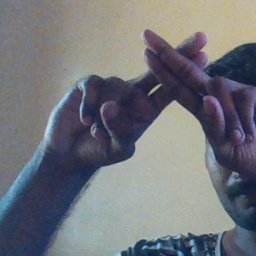F: (98, 20, 247, 147)
